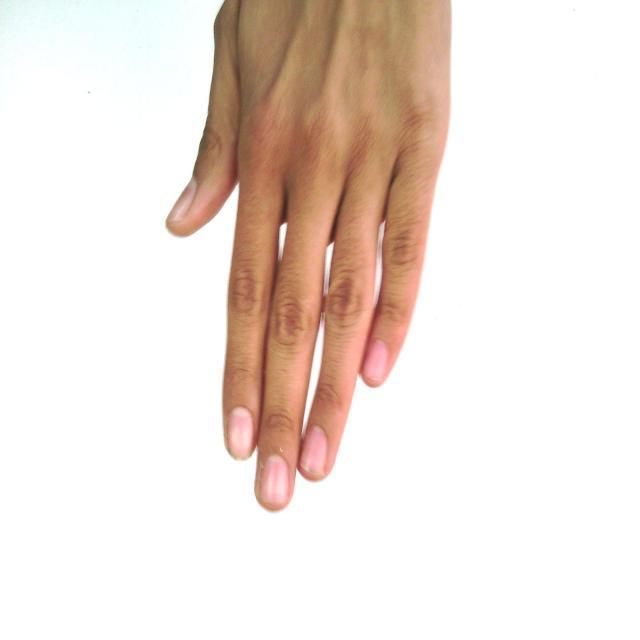Fingernail: (260, 455, 291, 508), (228, 408, 254, 459), (301, 428, 327, 477), (168, 180, 197, 221), (364, 341, 388, 382)
